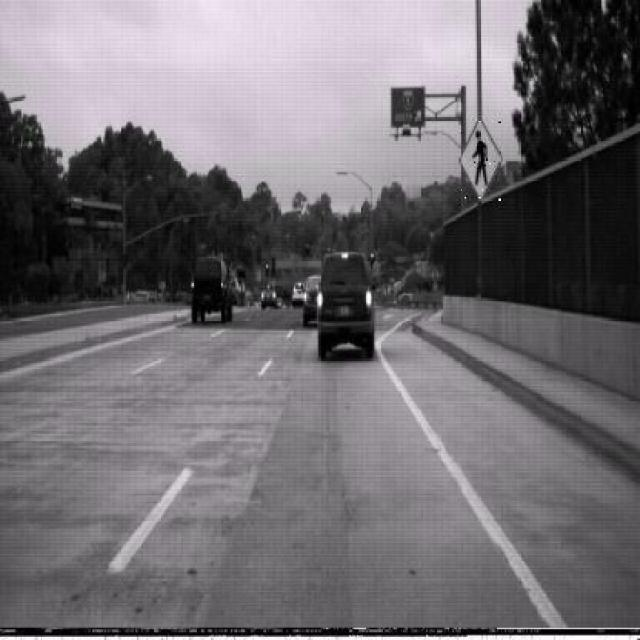pedestrianCrossing: (458, 115, 502, 202)
